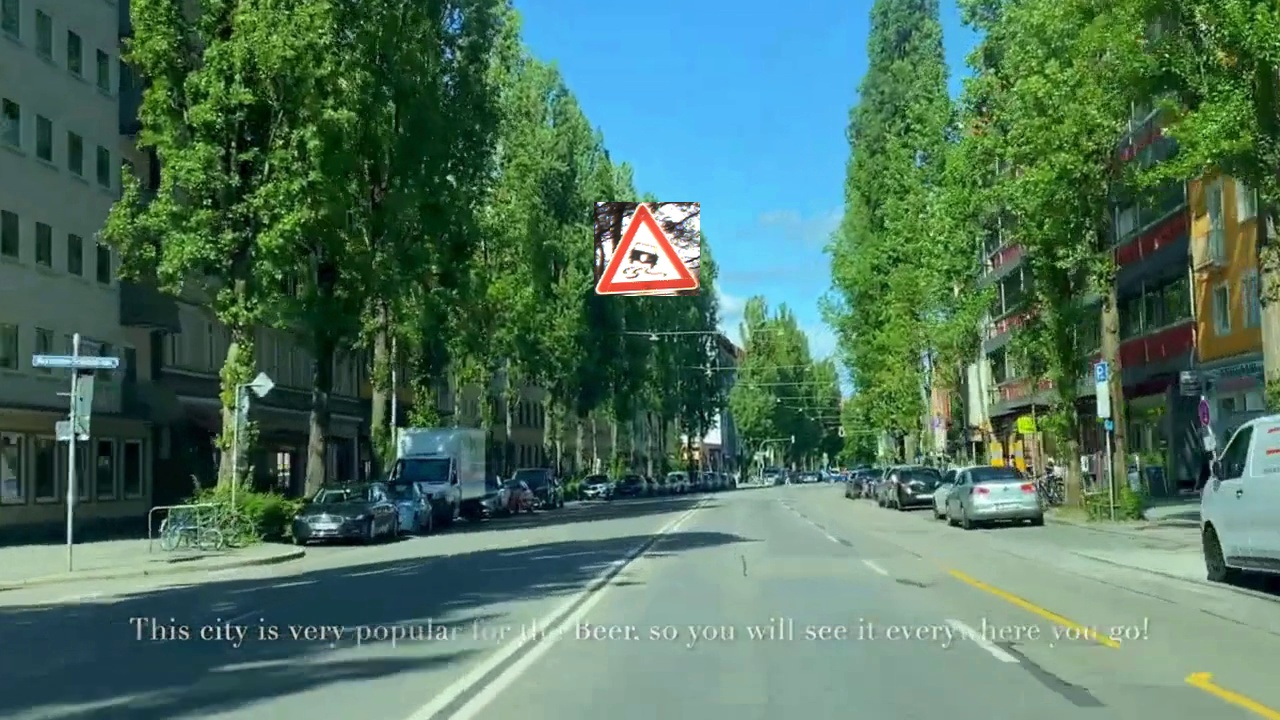Slippery: (594, 202, 700, 296)
